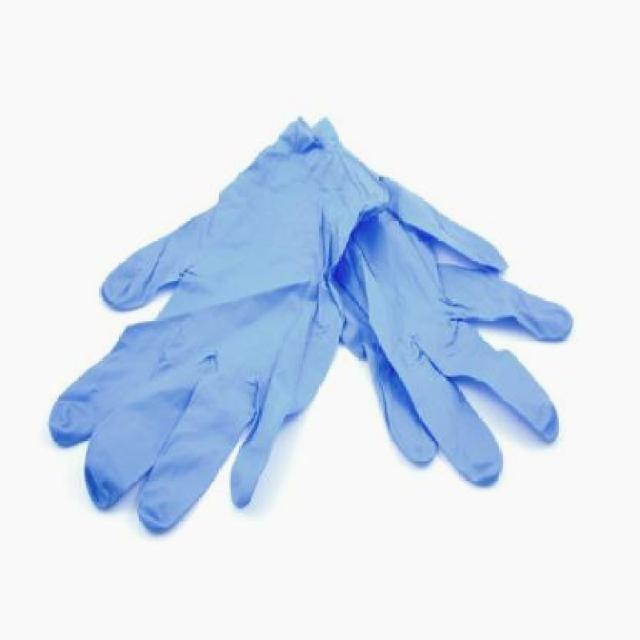glove: (40, 120, 572, 532)
